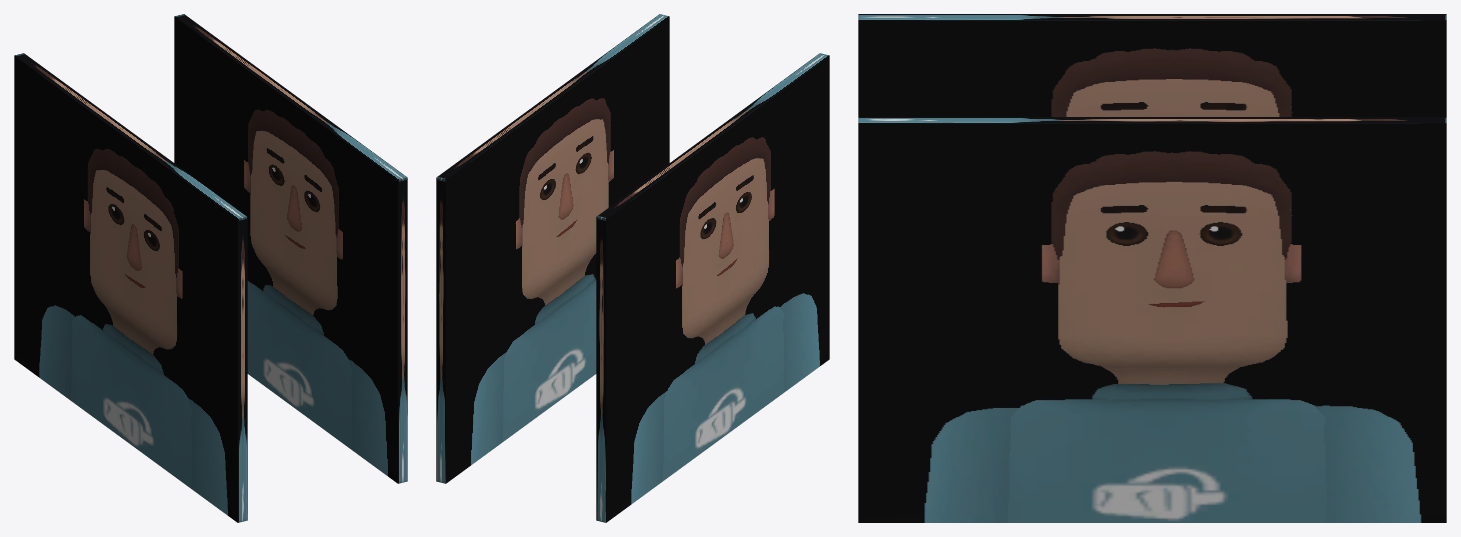
Rendered from sixteen.obj.
The picture shows the model from 3 angles, left to right: view 1: azimuth 30°, elevation 25°; view 2: azimuth 150°, elevation 25°; view 3: azimuth 270°, elevation 25°; orthographic projection. The views are drawn at different scales.
Bounding box in the file's own units: 21.22 × 36.23 × 48.34.
1 material, 1 textured.
